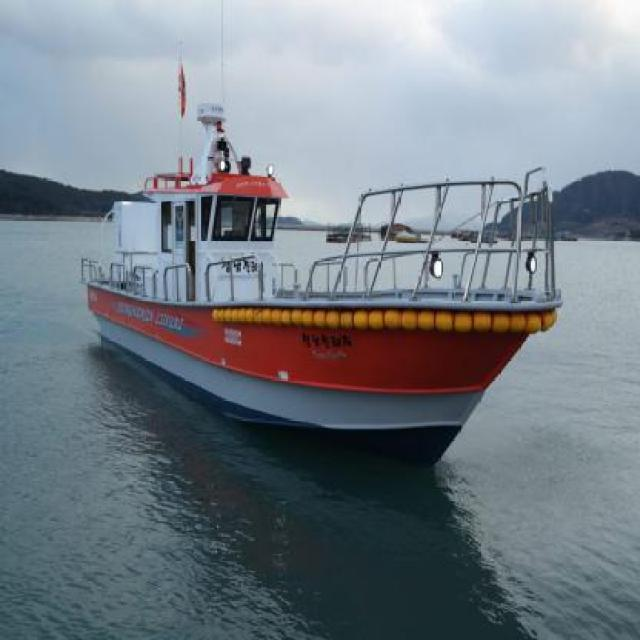fish-b: (73, 5, 566, 485)
